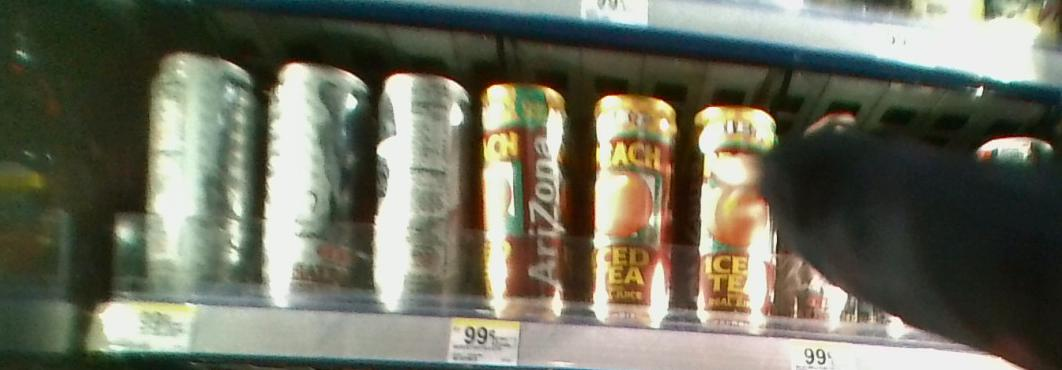bottle: (140, 45, 257, 297), (257, 43, 362, 309), (477, 77, 579, 318), (371, 67, 469, 309), (689, 101, 791, 323), (592, 90, 683, 329)
